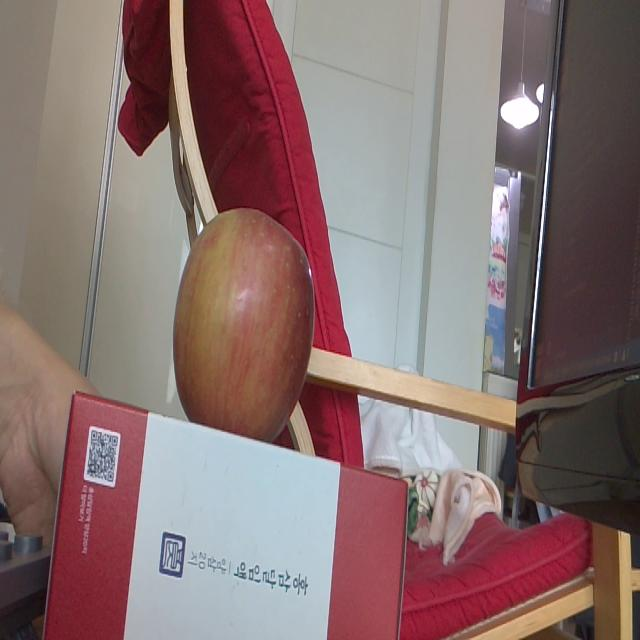apple: (171, 205, 327, 435)
